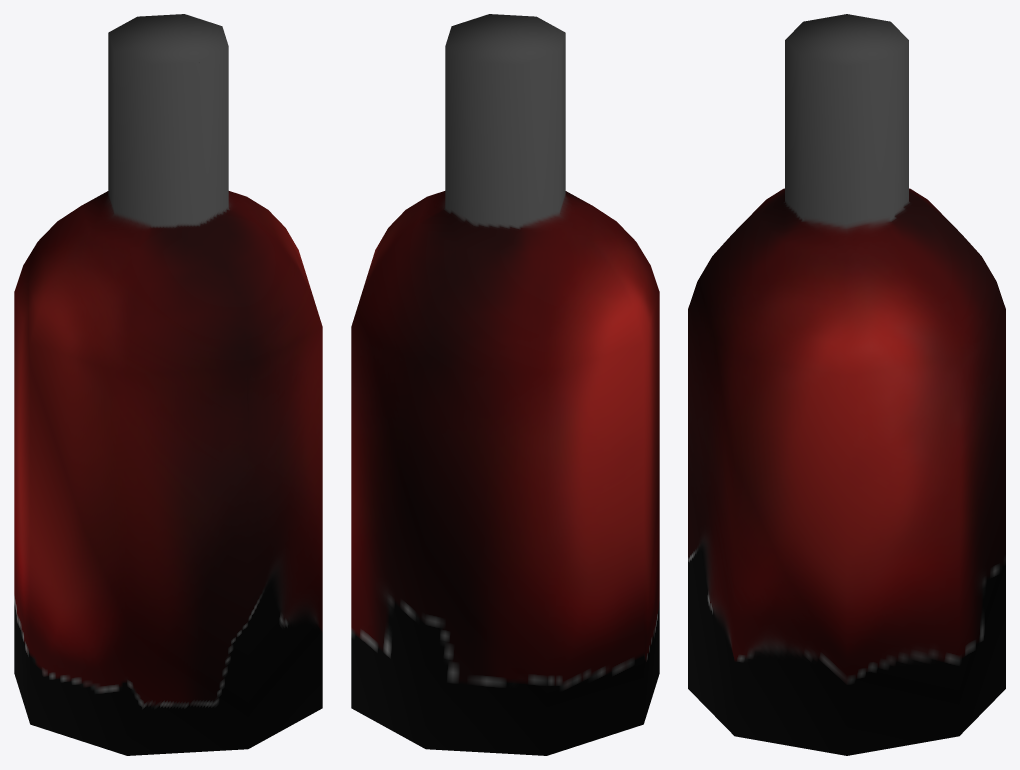
The model's file is pota.fbx.
The picture shows the model from 3 angles, left to right: view 1: azimuth 30°, elevation 25°; view 2: azimuth 150°, elevation 25°; view 3: azimuth 270°, elevation 25°; orthographic projection.
Visible parts, largest first — view 1: Sphere; view 2: Sphere; view 3: Sphere.
Boxes of the visible parts, box(x1,y1,x2,y2) form: Sphere: box(14, 14, 322, 755); Sphere: box(351, 14, 659, 755); Sphere: box(688, 14, 1005, 755).
Bounding box in the file's own units: 18.56 × 41.77 × 18.56.
